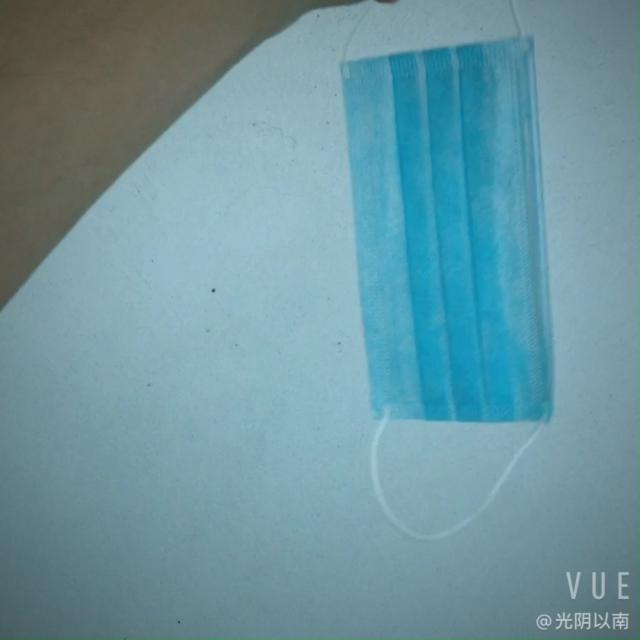face mask: (328, 44, 580, 436)
